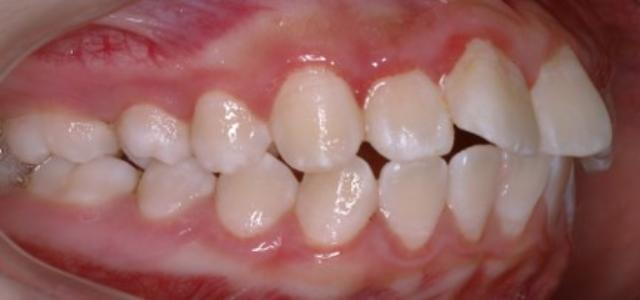canine class II 1/4: (216, 59, 378, 256)
molar class I: (2, 104, 138, 212)
